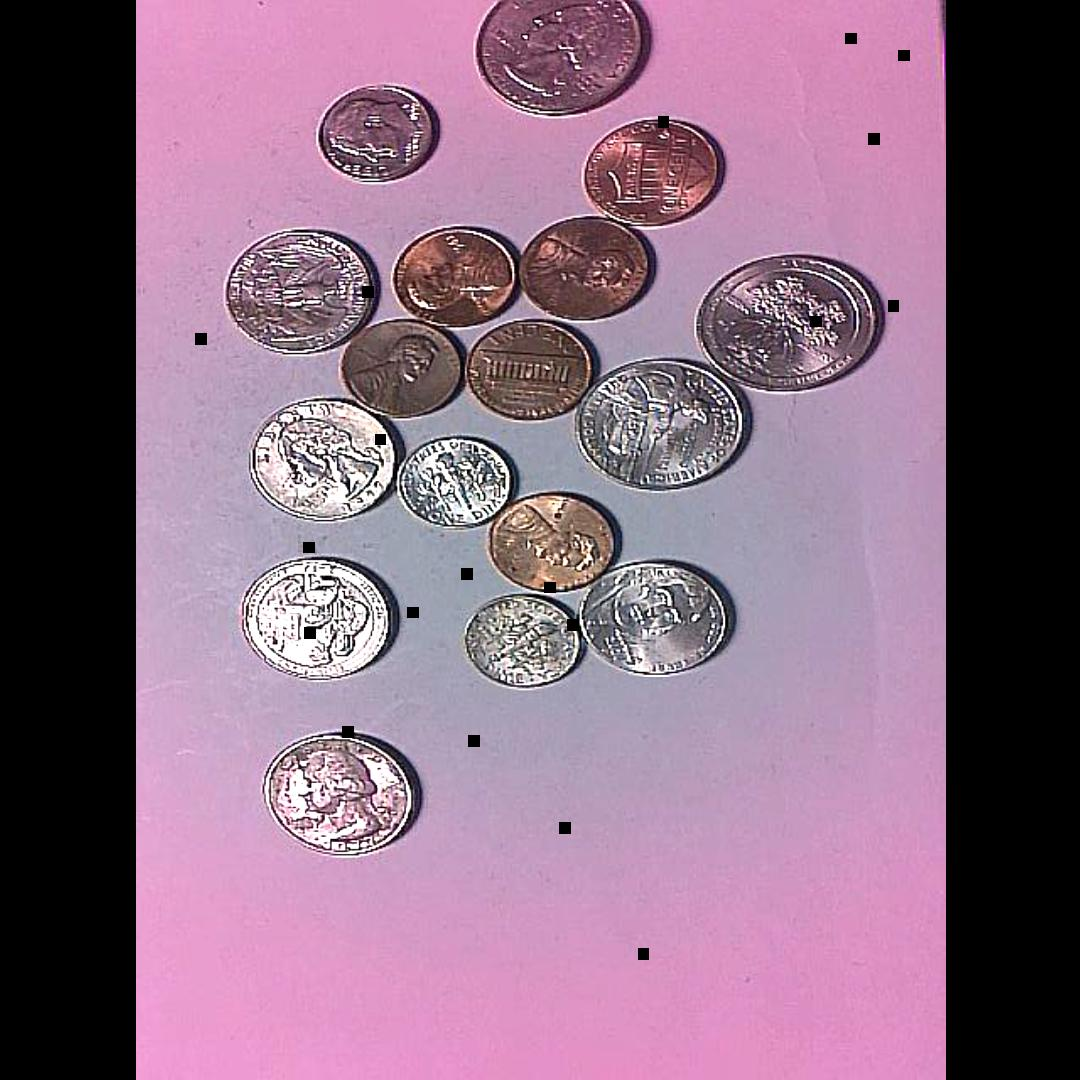Dime: (459, 589, 586, 692), (314, 84, 442, 184), (393, 435, 516, 530)
Nickel: (557, 555, 739, 680), (572, 557, 737, 678)
Penny: (580, 116, 726, 230), (479, 488, 621, 594), (461, 317, 599, 422), (392, 224, 523, 332), (518, 218, 653, 317), (338, 317, 466, 418)
Quarter: (694, 250, 888, 393), (569, 356, 753, 494), (233, 552, 402, 682), (260, 731, 425, 861), (472, 0, 651, 118), (221, 224, 376, 354), (246, 398, 400, 518)
